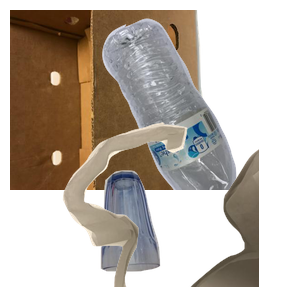cardboard: (10, 10, 211, 190)
glass: (98, 168, 251, 300)
plastic: (100, 16, 300, 196)
trash: (60, 120, 300, 300)
